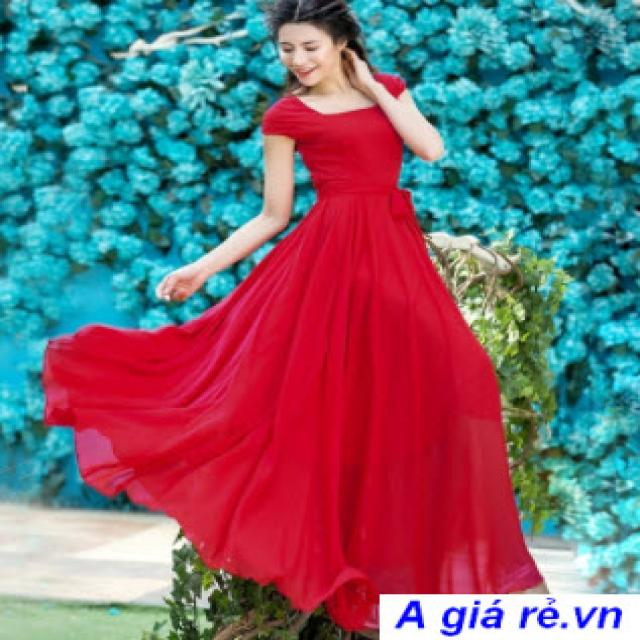clothes: (88, 67, 545, 598)
